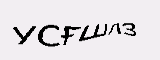З: (122, 20, 136, 37)
Л: (108, 21, 122, 37)
С: (37, 23, 61, 47)
У: (11, 25, 36, 45)
Ш: (77, 23, 108, 42)
Ғ: (61, 25, 80, 46)
